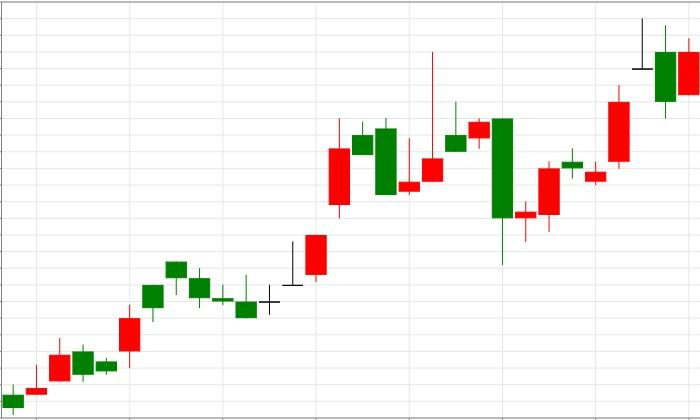bearish_engulfing_fall: (397, 51, 513, 265)
